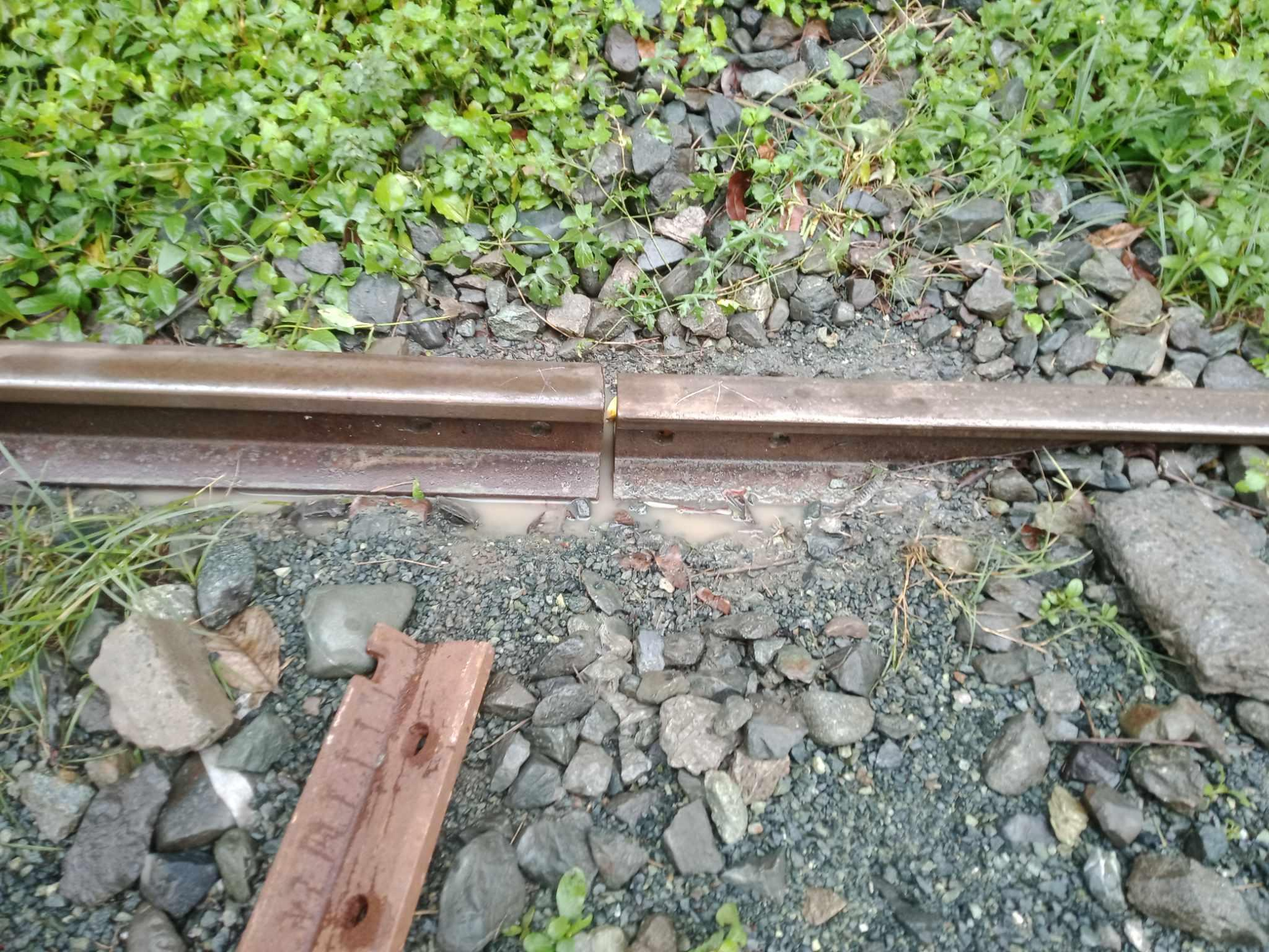railway-gap: (541, 356, 677, 510)
